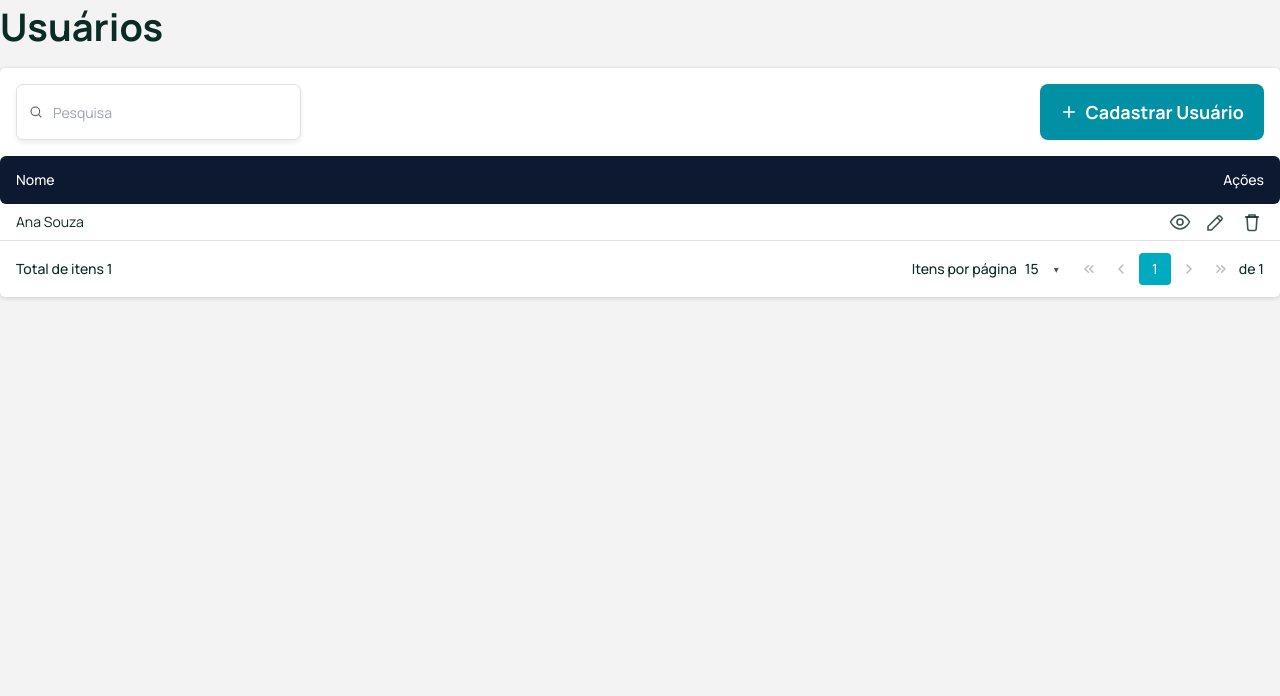
Test: UsersListPage › shows the no-results empty state for a search with no matches
Expected: the text "Ana Souza" is shown, [0, 204, 561, 240]
Type "Zzz" into the field named "Pesquisar usuário por nome, matrícula ou e-mail" at point(158, 112), box [16, 84, 301, 140]
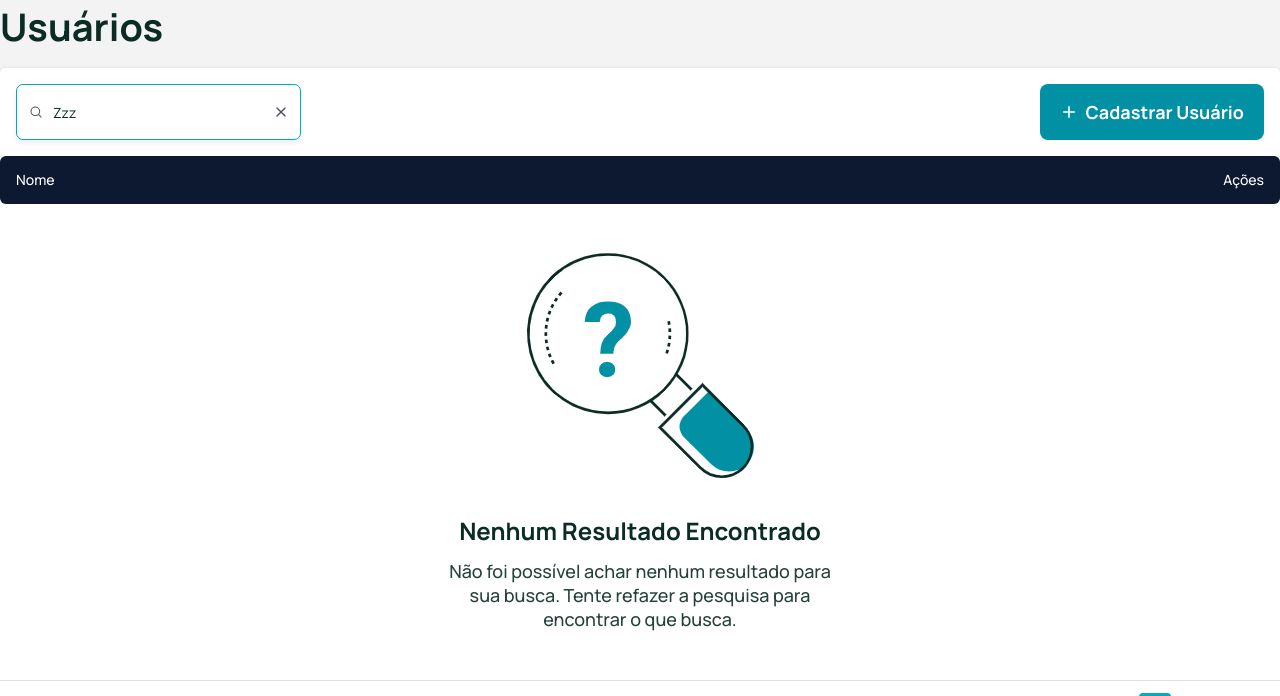
Expected: the column heading "Nome" is shown, [0, 156, 630, 204]
Now the text "Nenhum Resultado Encontrado" is shown, box [459, 514, 821, 547]
Now the picture is shown, box [526, 253, 754, 478]
